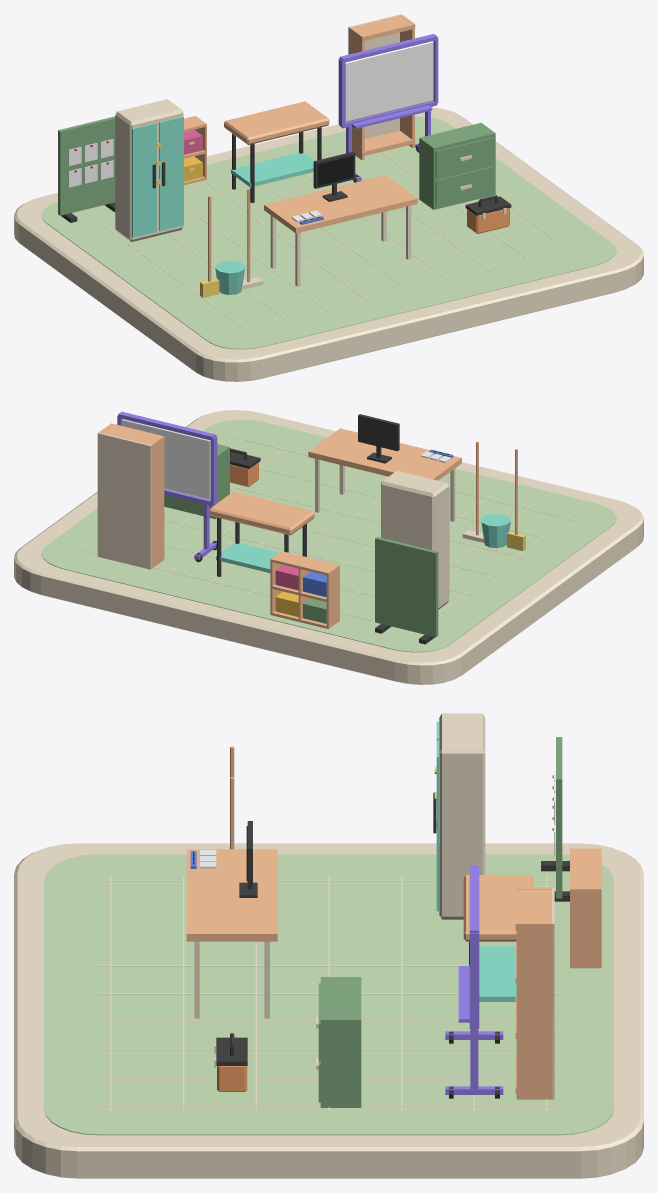
3 views of the same model, one above another, from view 1: azimuth 30°, elevation 25°; view 2: azimuth 150°, elevation 25°; view 3: azimuth 270°, elevation 25° (orthographic). The views are drawn at different scales.
Parts seen in each view (by area): view 1: COM-02 Floor Surface, COM-01 Rounded Base Direct, Cabinet, Top, Writing surface, Panel, Equipment case, Door, Worktop, Door.001, Lower shelf, Frame (+10 smaller); view 2: COM-02 Floor Surface, COM-01 Rounded Base Direct, Back, Panel, Equipment case, Top, Writing surface, Worktop, Side, Frame, Cabinet, Lower shelf (+11 smaller); view 3: COM-02 Floor Surface, COM-01 Rounded Base Direct, Top, Equipment case, Side.001, Cabinet, Worktop, Cubbies divider.002, Lower shelf, Shelf.003, Cubbies shelf.002, Panel (+9 smaller).
Boxes of the visible parts, left/top/right/bottom form: COM-02 Floor Surface: left=41, top=116, right=616, bottom=349; COM-01 Rounded Base Direct: left=14, top=107, right=643, bottom=381; Cabinet: left=419, top=122, right=495, bottom=209; Top: left=264, top=175, right=417, bottom=286; Writing surface: left=345, top=41, right=433, bottom=122; Panel: left=58, top=116, right=115, bottom=215; Equipment case: left=115, top=99, right=183, bottom=241; Door: left=132, top=123, right=156, bottom=237; Worktop: left=224, top=101, right=329, bottom=144; Door.001: left=159, top=116, right=183, bottom=230; Lower shelf: left=231, top=152, right=315, bottom=187; Frame: left=313, top=151, right=355, bottom=201; COM-02 Floor Surface: left=41, top=419, right=616, bottom=652; COM-01 Rounded Base Direct: left=14, top=410, right=643, bottom=684; Back: left=97, top=432, right=151, bottom=569; Panel: left=375, top=537, right=438, bottom=637; Equipment case: left=381, top=470, right=448, bottom=609; Top: left=308, top=428, right=461, bottom=521; Writing surface: left=122, top=419, right=210, bottom=500; Worktop: left=209, top=491, right=314, bottom=535; Side: left=149, top=435, right=164, bottom=568; Frame: left=358, top=414, right=399, bottom=463; Cabinet: left=164, top=444, right=229, bottom=519; Lower shelf: left=216, top=542, right=278, bottom=572; COM-02 Floor Surface: left=44, top=854, right=613, bottom=1135; COM-01 Rounded Base Direct: left=14, top=843, right=643, bottom=1178; Top: left=186, top=849, right=277, bottom=1018; Equipment case: left=439, top=713, right=485, bottom=919; Side.001: left=516, top=922, right=553, bottom=1099; Cabinet: left=316, top=977, right=361, bottom=1107; Worktop: left=463, top=875, right=533, bottom=941; Cubbies divider.002: left=570, top=889, right=601, bottom=968; Lower shelf: left=479, top=946, right=516, bottom=1001; Shelf.003: left=515, top=887, right=554, bottom=930; Cubbies shelf.002: left=570, top=848, right=601, bottom=888; Panel: left=556, top=737, right=562, bottom=898.
Bounding box in the file's own units: 6 × 1.9 × 5.2.
1 material, 1 textured.
